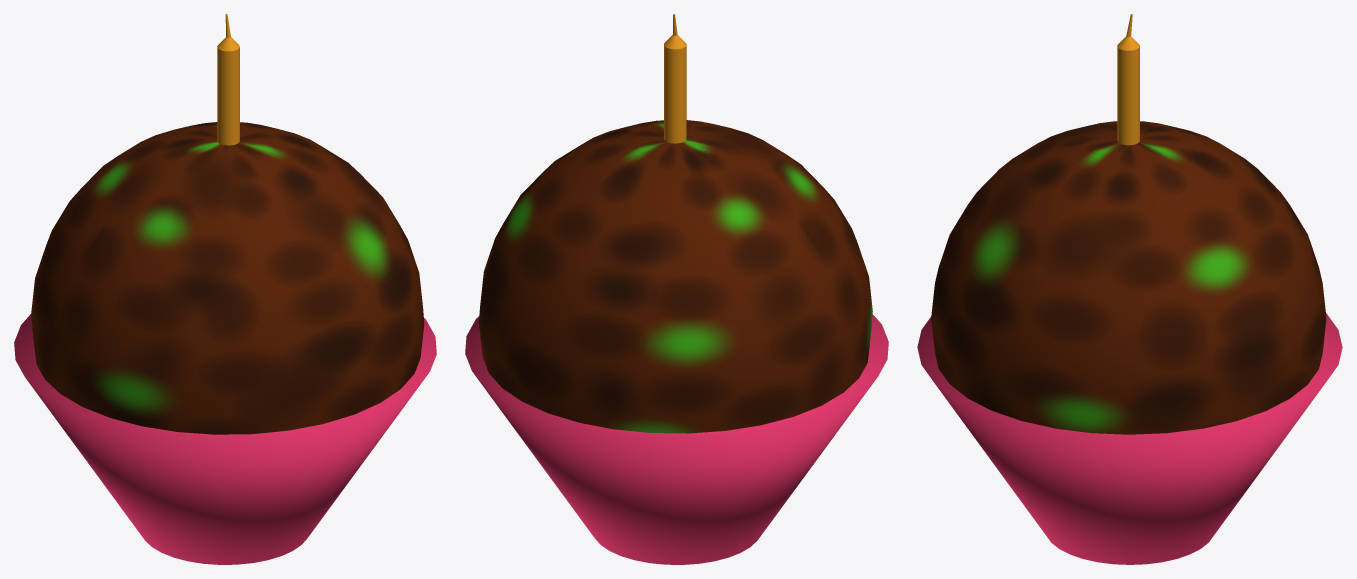
File: muffin.glb
The picture shows the model from 3 angles, left to right: view 1: azimuth 30°, elevation 25°; view 2: azimuth 150°, elevation 25°; view 3: azimuth 270°, elevation 25°; orthographic projection.
Visible parts, largest first — view 1: Sphere, Cylinder, Cylinder.001; view 2: Sphere, Cylinder, Cylinder.001; view 3: Sphere, Cylinder, Cylinder.001.
Boxes of the visible parts, x1,y1,x2,y2 form: Sphere: [31, 122, 424, 434]; Cylinder: [14, 314, 436, 564]; Cylinder.001: [217, 14, 239, 145]; Sphere: [479, 120, 872, 433]; Cylinder: [465, 314, 888, 564]; Cylinder.001: [664, 14, 686, 143]; Sphere: [931, 121, 1326, 434]; Cylinder: [917, 313, 1342, 564]; Cylinder.001: [1117, 14, 1139, 145].
Size of the model in its own units: 1.51 by 2.02 by 1.51.
Materials: 3 (1 with a texture image).
